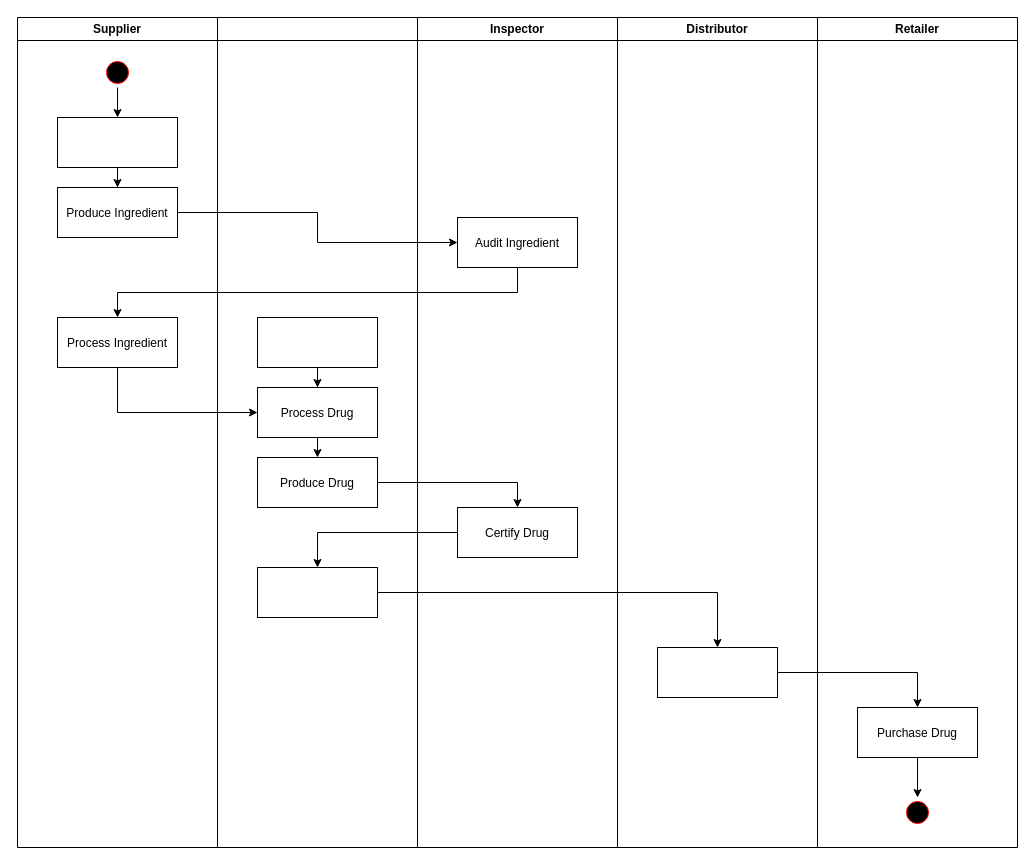
Some shapes in this 1035 by 865 pixel diagram are drawn without their labels. Here are the shapes that lost their labels. From the top down, the box of each, then its label:
(56, 116, 178, 168): Source Raw Material
(256, 316, 378, 368): Create Drug
(216, 16, 418, 848): Manufacturer
(256, 566, 378, 618): Pack Drug
(656, 646, 778, 698): Distribute Drug
